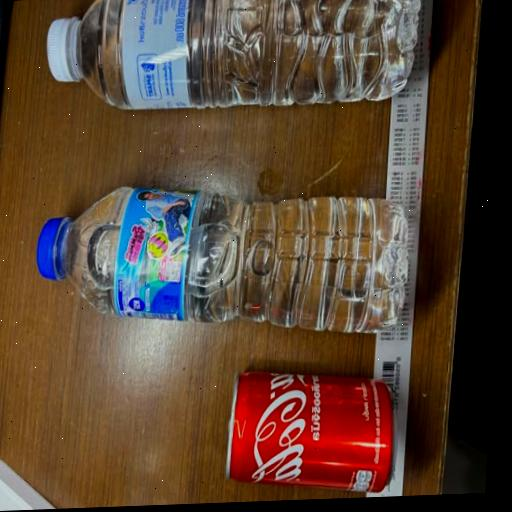bottle: (7, 157, 433, 373), (29, 0, 430, 125)
canned: (197, 331, 402, 504)
